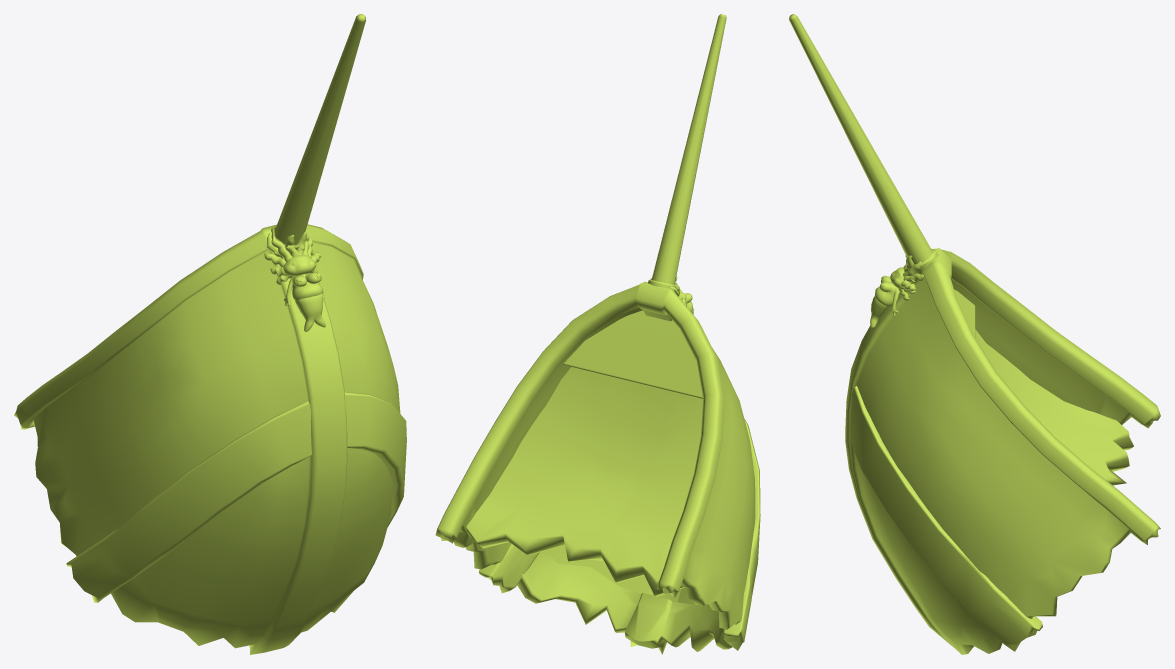
Rendered from Mode_EpaveAvant_Reworked.fbx.
The picture shows the model from 3 angles, left to right: view 1: azimuth 30°, elevation 25°; view 2: azimuth 150°, elevation 25°; view 3: azimuth 270°, elevation 25°; orthographic projection. The views are drawn at different scales.
Parts seen in each view (by area): view 1: Coque_proue, poutre_horizontal_proue, Proue_pointe, figure_de_proue; view 2: Sol_proue, Coque_proue, Proue_pointe, poutre_horizontal_proue; view 3: Coque_proue, poutre_horizontal_proue, Sol_proue, Proue_pointe, figure_de_proue.
Part boxes in pixels (x1,y1,x2,y2): Coque_proue: (14,224,400,654); poutre_horizontal_proue: (66,392,406,602); Proue_pointe: (271,14,365,252); figure_de_proue: (264,229,325,331); Sol_proue: (466,310,703,596); Coque_proue: (435,282,755,654); Proue_pointe: (648,14,726,287); poutre_horizontal_proue: (479,419,760,650); Coque_proue: (845,248,1160,654); poutre_horizontal_proue: (849,386,1042,651); Sol_proue: (954,289,1133,485); Proue_pointe: (789,14,938,273); figure_de_proue: (870,255,923,327).
Size of the model in its own units: 1400 by 2991 by 1607.
